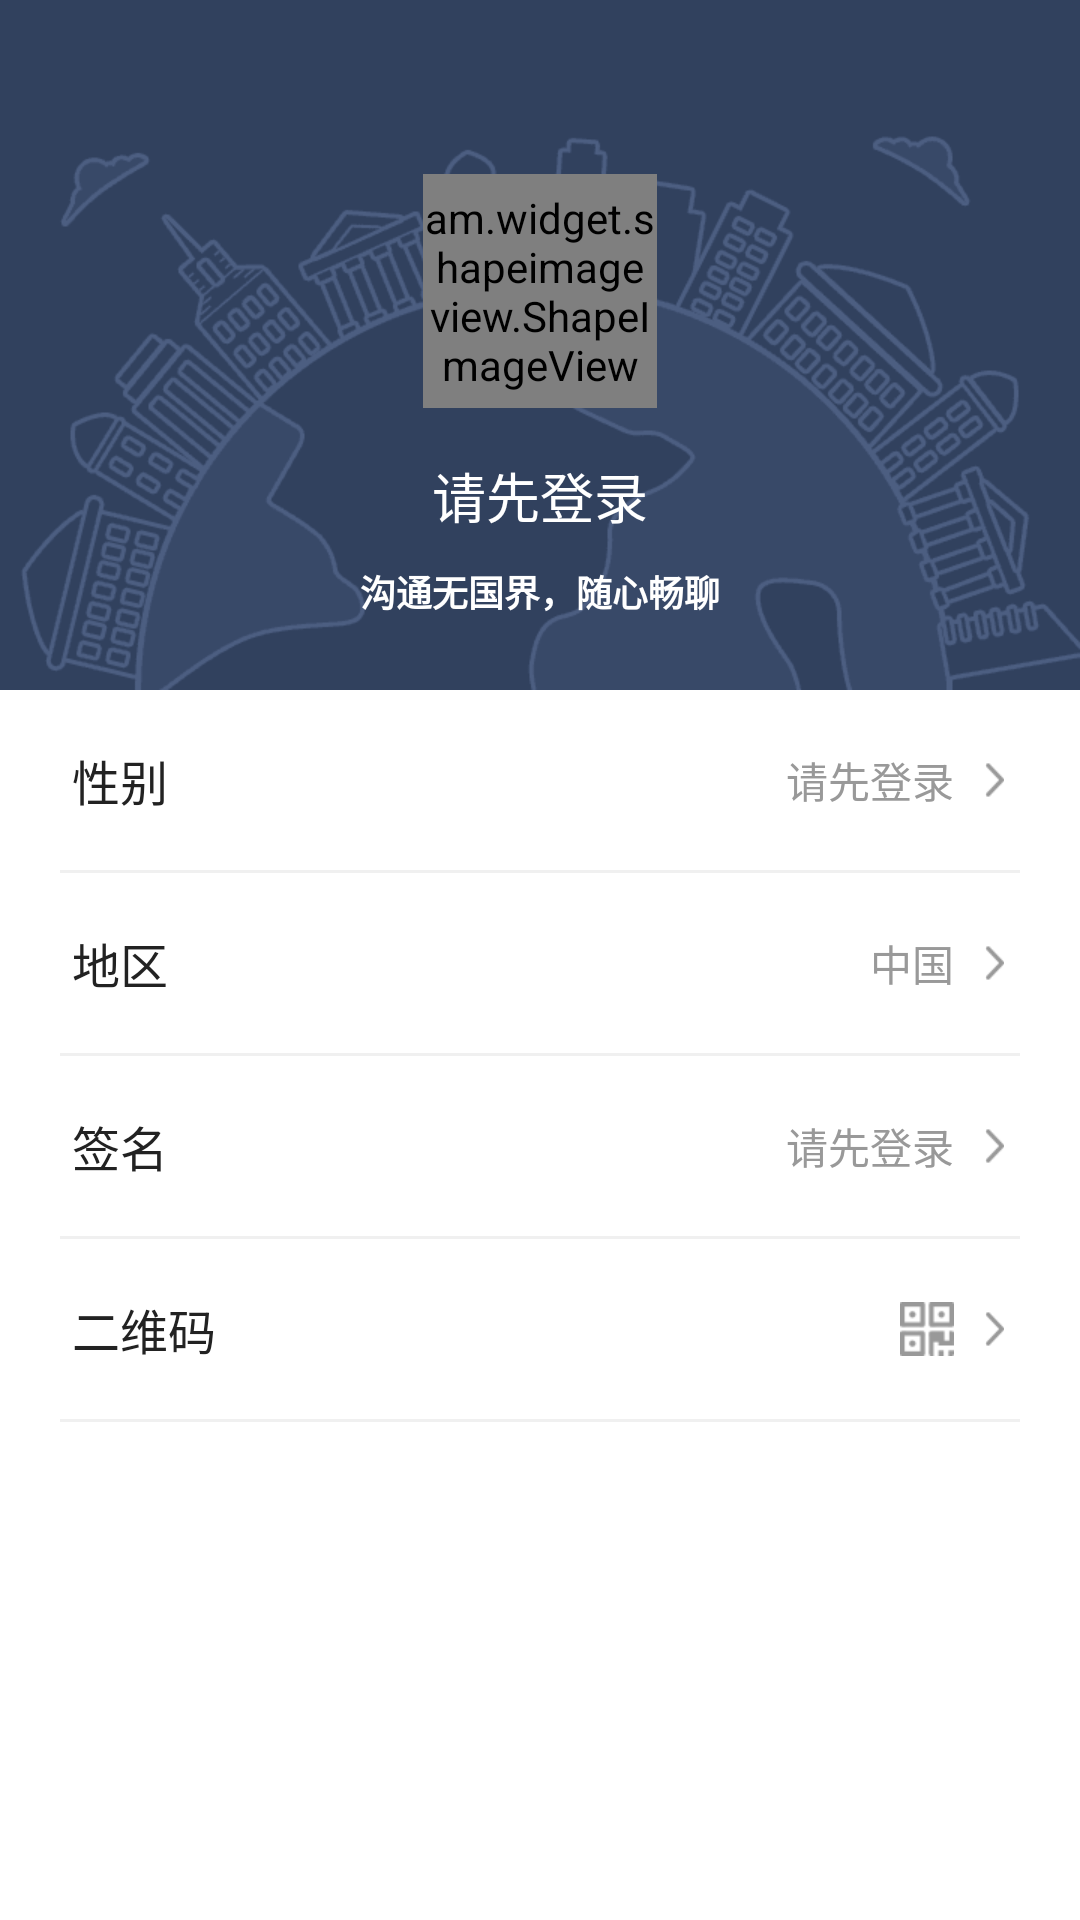

Where icons sit on this 1080w x 1920h app screen, as bbox=[x1, y1, x2, y2]:
erweima: bbox=[900, 1302, 954, 1356]
